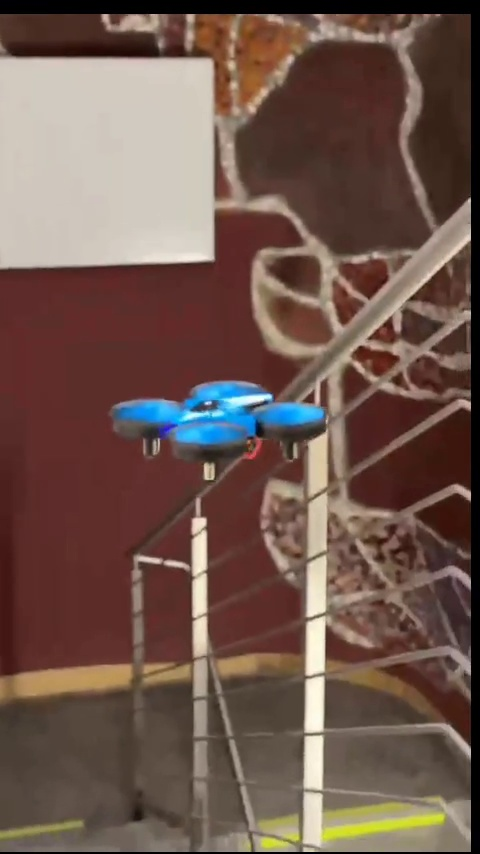drone: (114, 377, 311, 479)
